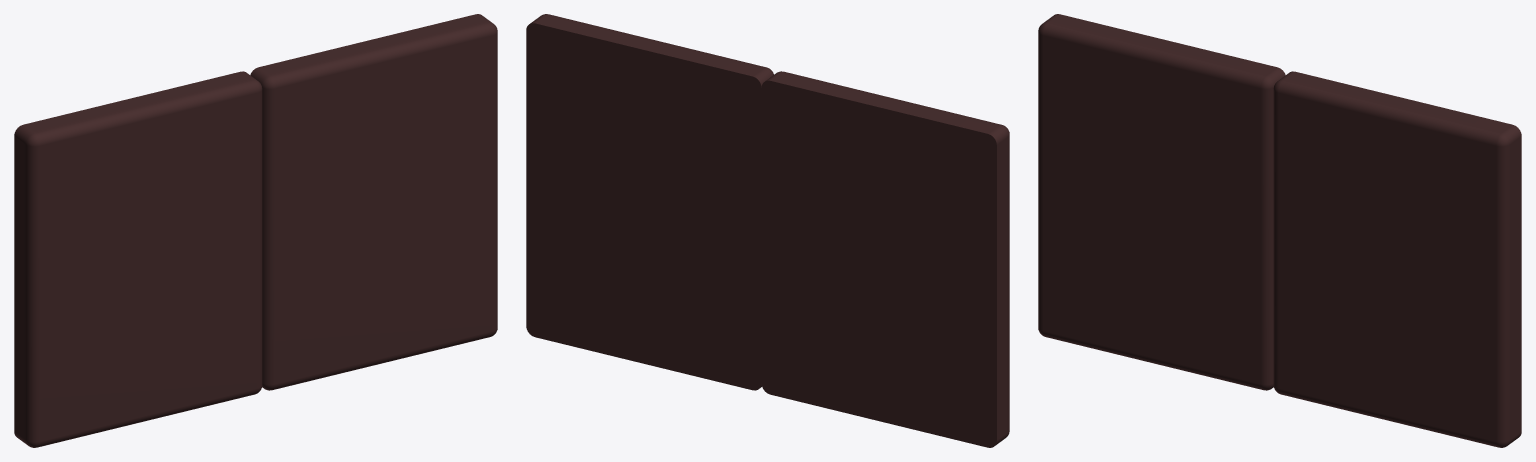
The model's file is KitchenBar_1_Hinges_2.fbx.
3 renders of one model, left to right at view 1: azimuth 30°, elevation 25°; view 2: azimuth 150°, elevation 25°; view 3: azimuth 330°, elevation 25°, orthographic.
Visible parts, largest first — view 1: pCube91, pCube92; view 2: pCube91, pCube92; view 3: pCube92, pCube91.
Boxes of the visible parts, <box> form: pCube91: <box>14,71,262,447</box>; pCube92: <box>250,14,497,390</box>; pCube91: <box>761,71,1009,447</box>; pCube92: <box>526,14,773,390</box>; pCube92: <box>1273,71,1521,447</box>; pCube91: <box>1038,14,1285,390</box>.
Bounding box in the file's own units: 26.03 × 16.59 × 1.6.
